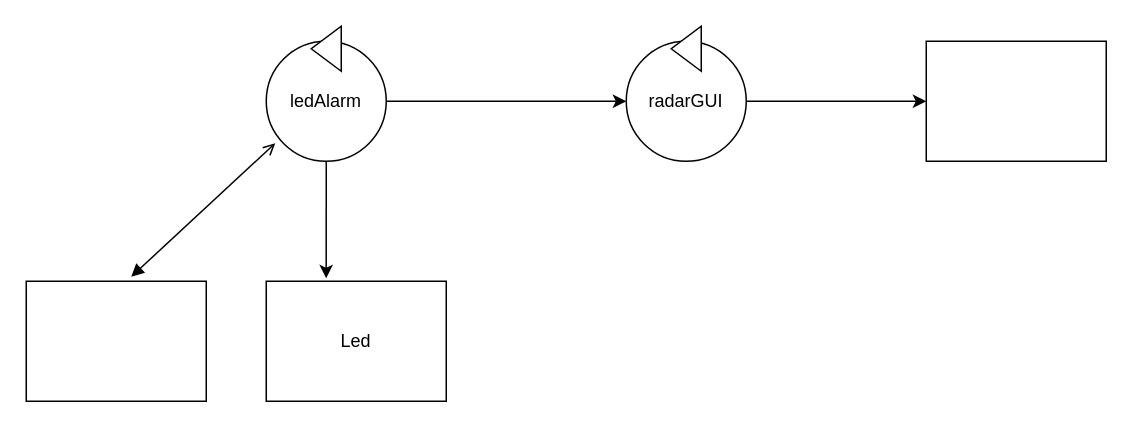
This 1133x428 diagram has some shape labels left out. Here are the shapes that lost their labels. From the top down, the centre of each, then its label:
(x=1015, y=100): RadarPojo
(x=115, y=340): Sonar
